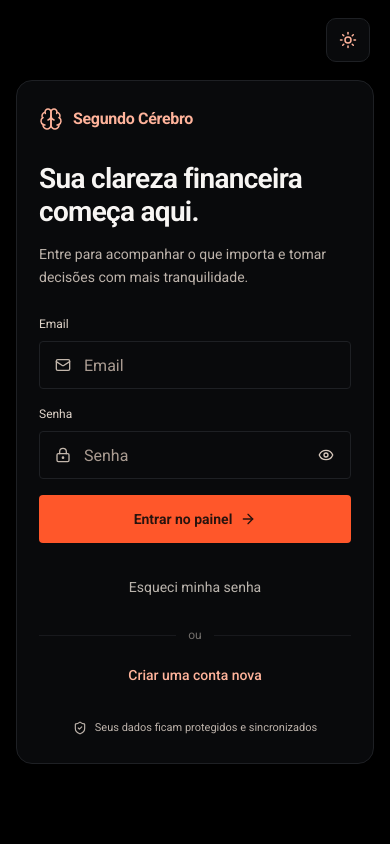
Test: switches to account registration with an explicit name without submitting anything
Step 1. Click the button "Criar uma conta nova" → [195, 675], box [122, 655, 268, 695]
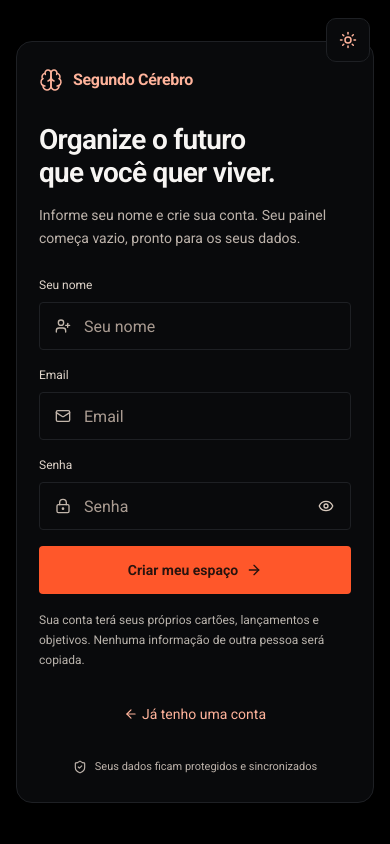
Now the password field labelled "Senha" has attribute autocomplete="new-password", box [39, 482, 351, 530]
Step 2. Click the button "Já tenho uma conta" → [195, 714], box [118, 694, 272, 734]
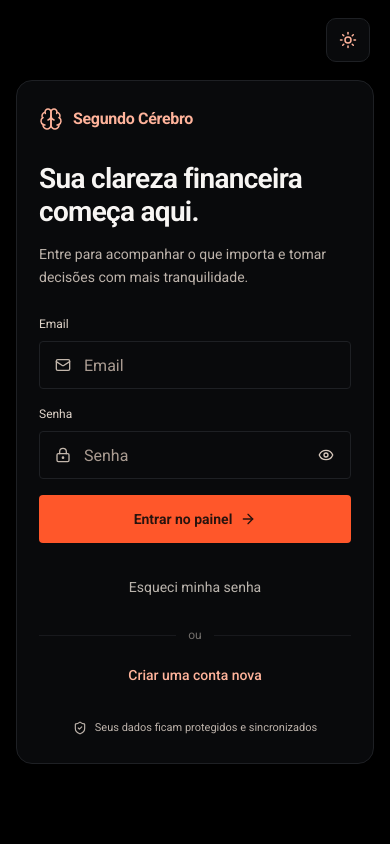
Now the text labelled "seu nome" is gone
